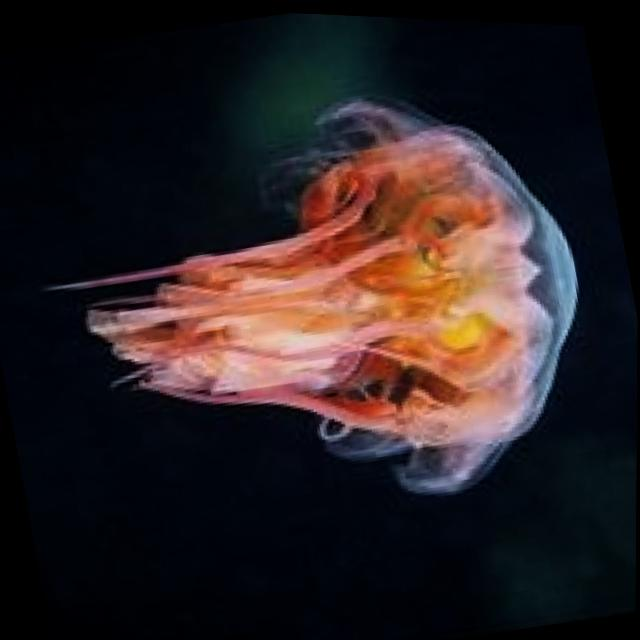Jellyfish: (15, 45, 618, 566)
